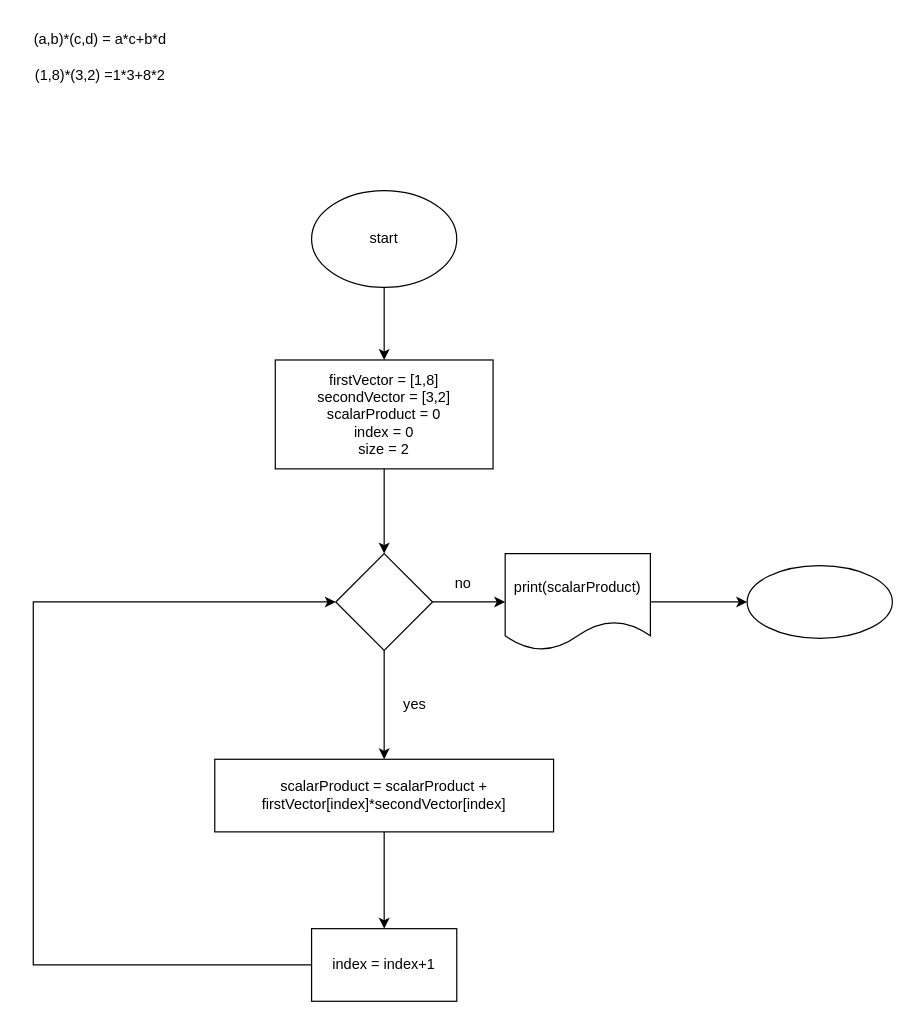
The diagram is 914 pixels wide and 1022 high, and some of its shapes have lost their labels. Each missing label, with the centre of its shape:
"index < size" belongs at pixel 384 601.
"stop" belongs at pixel 819 601.
